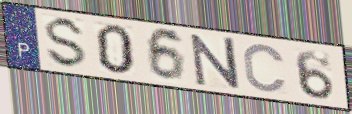0: (94, 23, 137, 76)
6: (144, 26, 189, 85), (293, 48, 336, 101)
C: (242, 42, 290, 95)
N: (188, 33, 243, 91)
S: (44, 16, 90, 70)
